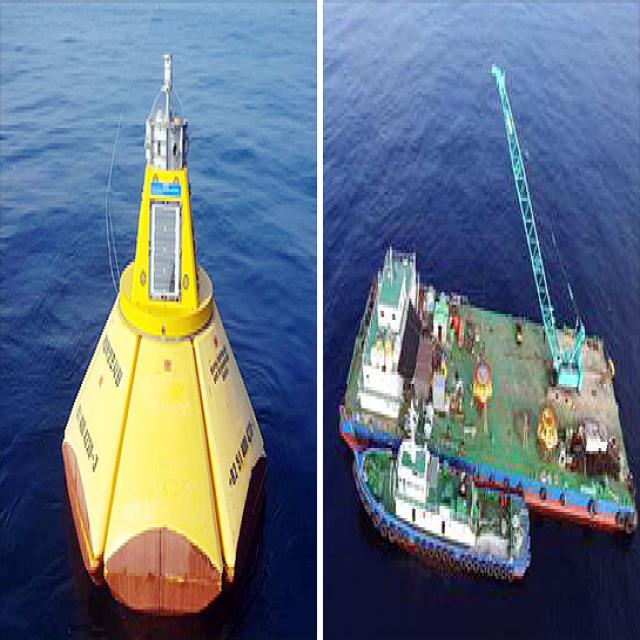2.5 sepcial mark: (60, 11, 271, 621)
